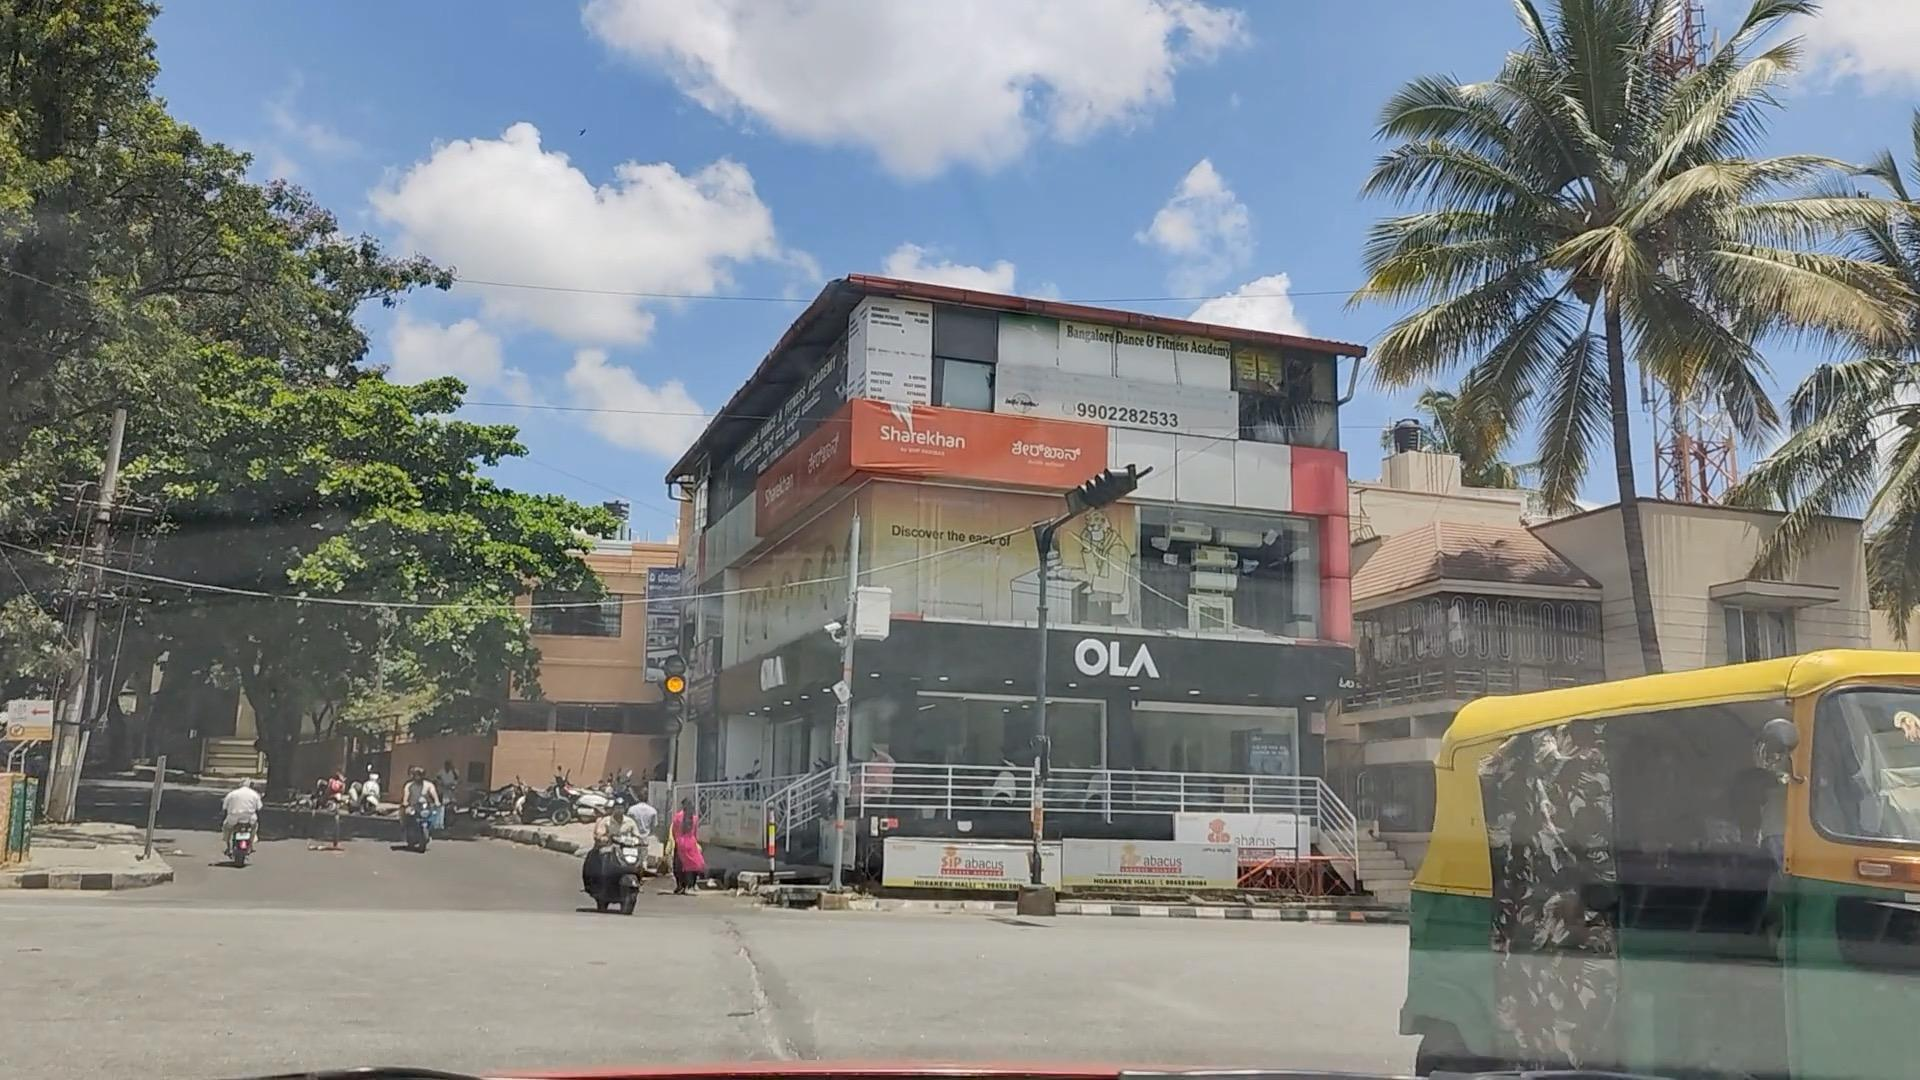RoadDamages: (703, 907, 841, 1080)
